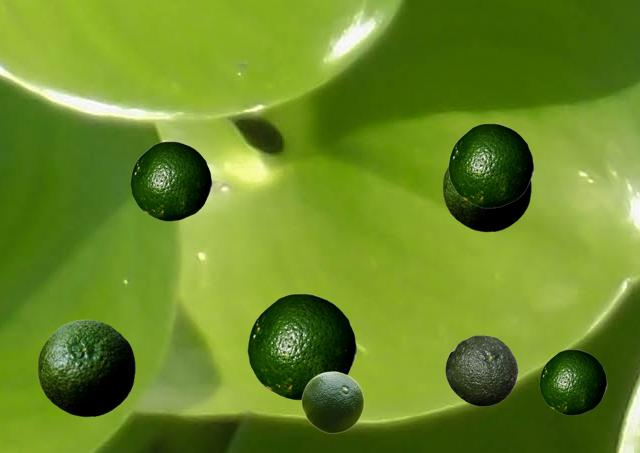calamansi: (247, 293, 356, 399), (37, 319, 134, 416), (448, 123, 533, 207), (130, 141, 211, 220), (442, 166, 530, 231), (445, 335, 517, 405), (539, 349, 606, 414), (301, 371, 363, 432)
